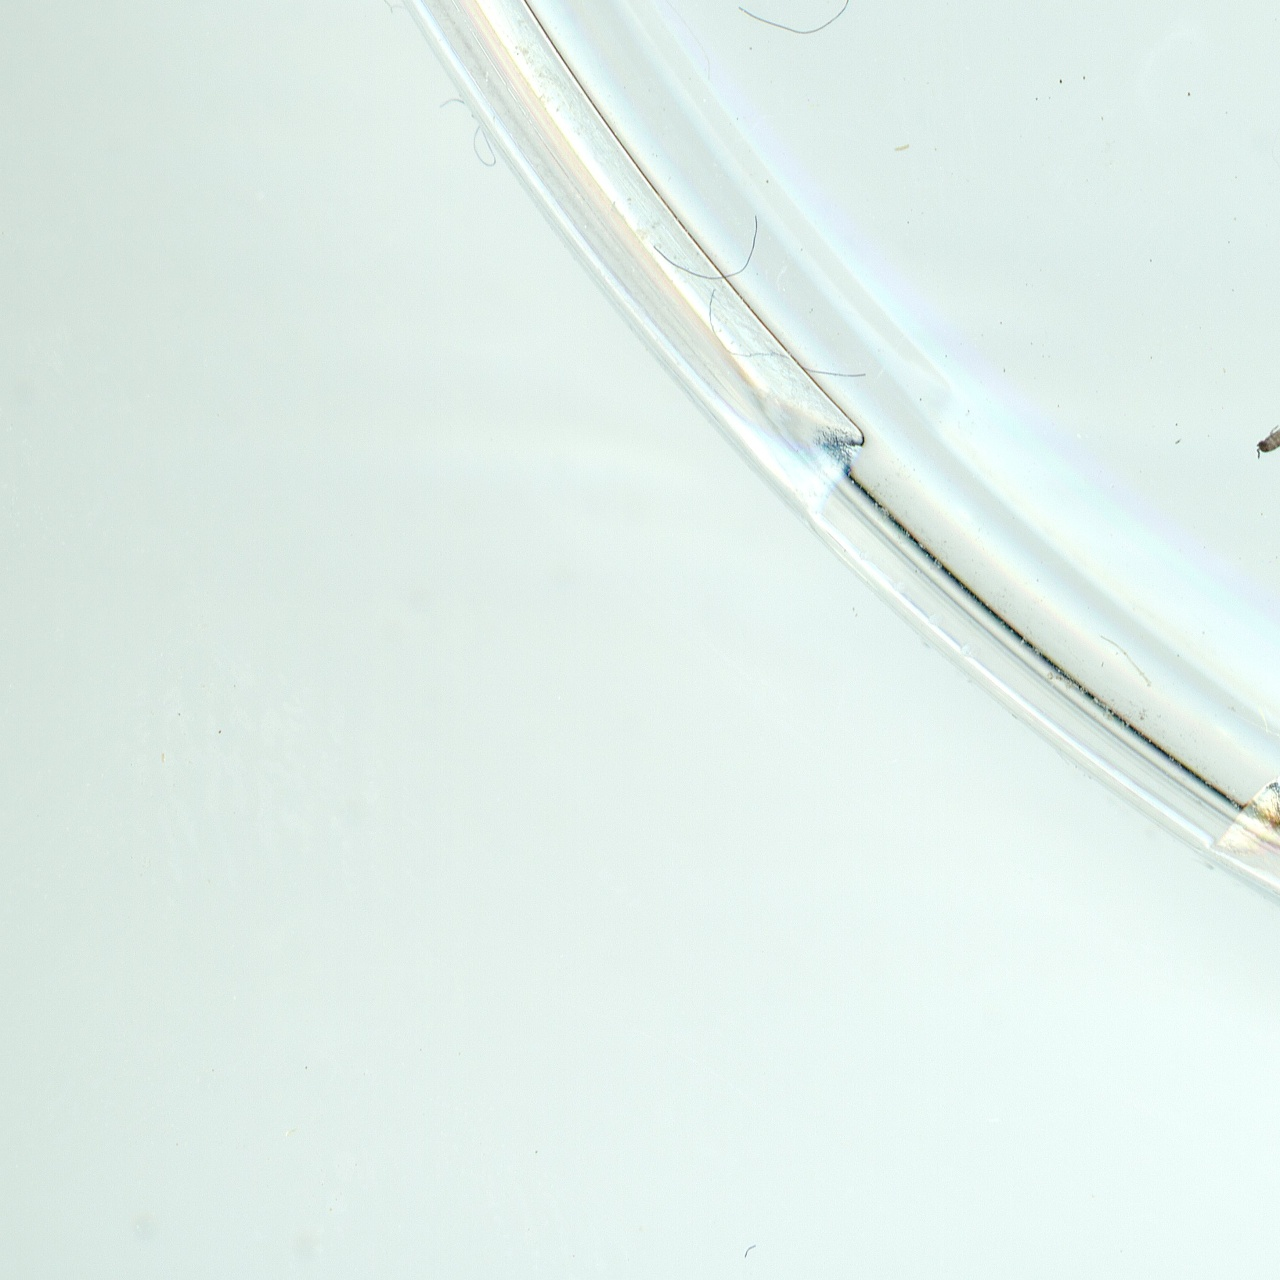arthropod: (1252, 418, 1280, 464)
